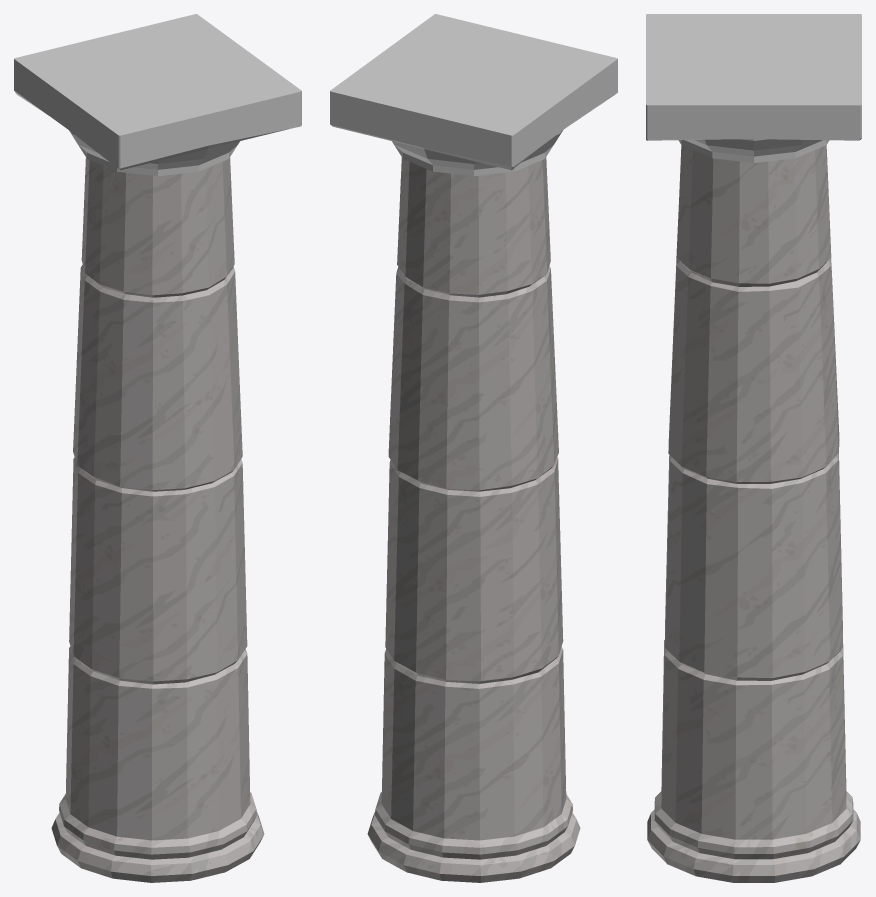
File: SM_Bld_Pillar_Monument_Half_02.fbx
3 renders of one model, left to right at view 1: azimuth 30°, elevation 25°; view 2: azimuth 150°, elevation 25°; view 3: azimuth 270°, elevation 25°, orthographic.
Visible parts, largest first — view 1: SM_Bld_Pillar_Monument_Half_02; view 2: SM_Bld_Pillar_Monument_Half_02; view 3: SM_Bld_Pillar_Monument_Half_02.
Boxes of the visible parts, <box> form: SM_Bld_Pillar_Monument_Half_02: <box>14,14,301,882</box>; SM_Bld_Pillar_Monument_Half_02: <box>330,14,617,882</box>; SM_Bld_Pillar_Monument_Half_02: <box>646,14,861,882</box>.
Bounding box in the file's own units: 150 × 600 × 150.
